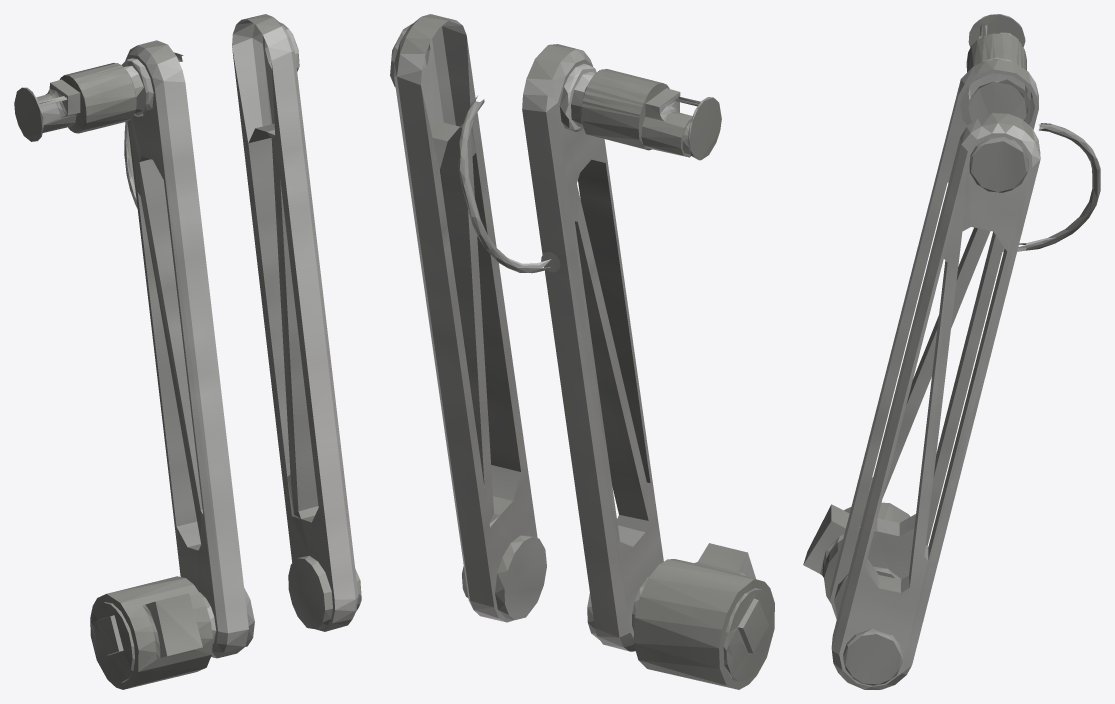
File: hombro.obj
3 renders of one model, left to right at view 1: azimuth 30°, elevation 25°; view 2: azimuth 150°, elevation 25°; view 3: azimuth 270°, elevation 25°, orthographic. The views are drawn at different scales.
Parts seen in each view (by area): view 1: robotic_arm.004; view 2: robotic_arm.004; view 3: robotic_arm.004.
Boxes of the visible parts, x1=… form: robotic_arm.004: x1=14, y1=14, x2=361, y2=689; robotic_arm.004: x1=390, y1=14, x2=774, y2=689; robotic_arm.004: x1=803, y1=14, x2=1100, y2=689.
Size of the model in its own units: 4.19 by 8.82 by 4.12.
1 material, 1 textured.
